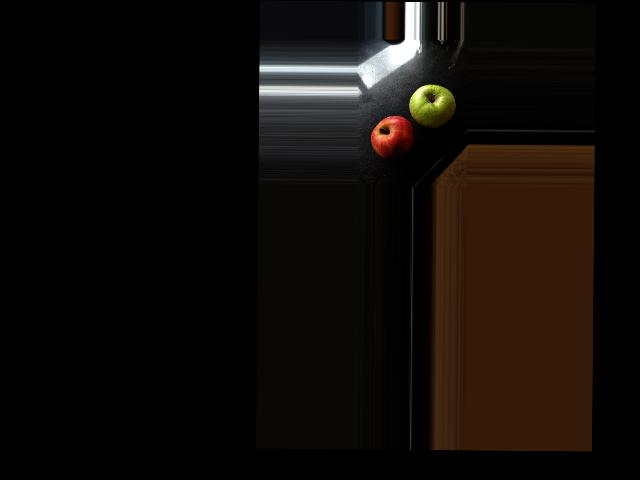apple: (368, 113, 412, 161)
